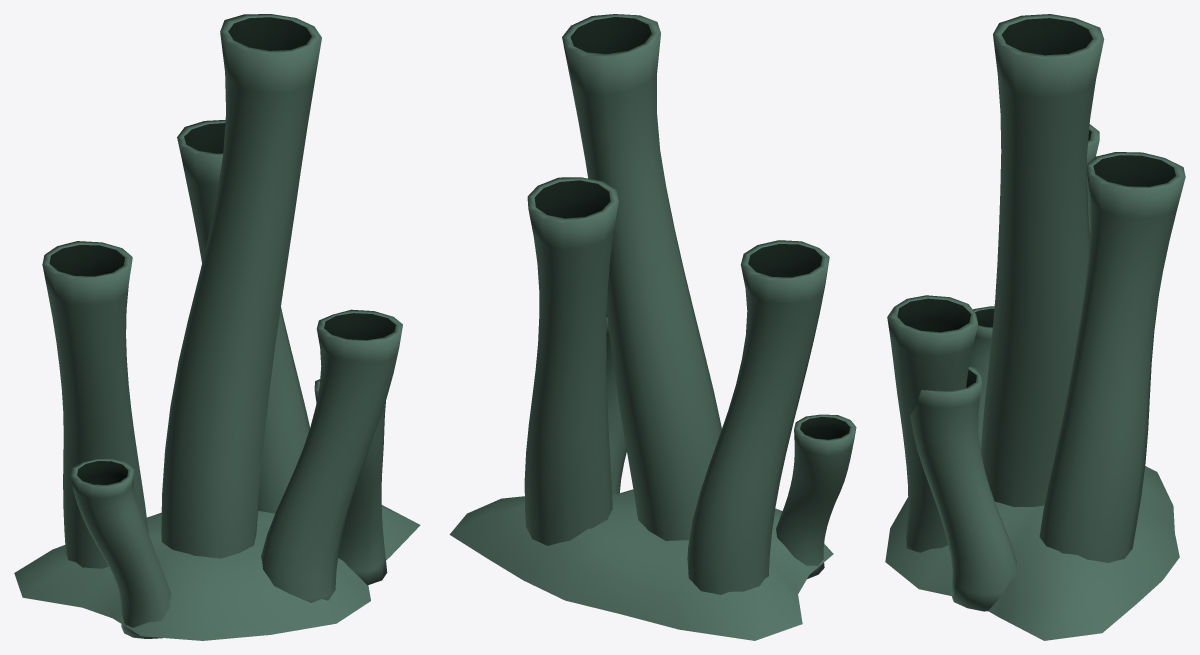
File: flora_marsh_tube_a.glb
The picture shows the model from 3 angles, left to right: view 1: azimuth 30°, elevation 25°; view 2: azimuth 150°, elevation 25°; view 3: azimuth 270°, elevation 25°; orthographic projection. The views are drawn at different scales.
Visible parts, largest first — view 1: flora_marsh_tube_a_lod0; view 2: flora_marsh_tube_a_lod0; view 3: flora_marsh_tube_a_lod0.
Part boxes in pixels (box(x1,y1,x2,y2)): flora_marsh_tube_a_lod0: box(14, 14, 420, 640); flora_marsh_tube_a_lod0: box(449, 14, 856, 640); flora_marsh_tube_a_lod0: box(885, 14, 1185, 640).
Size of what is drawn, in the model's own units: 2.67 by 3.69 by 1.86.
